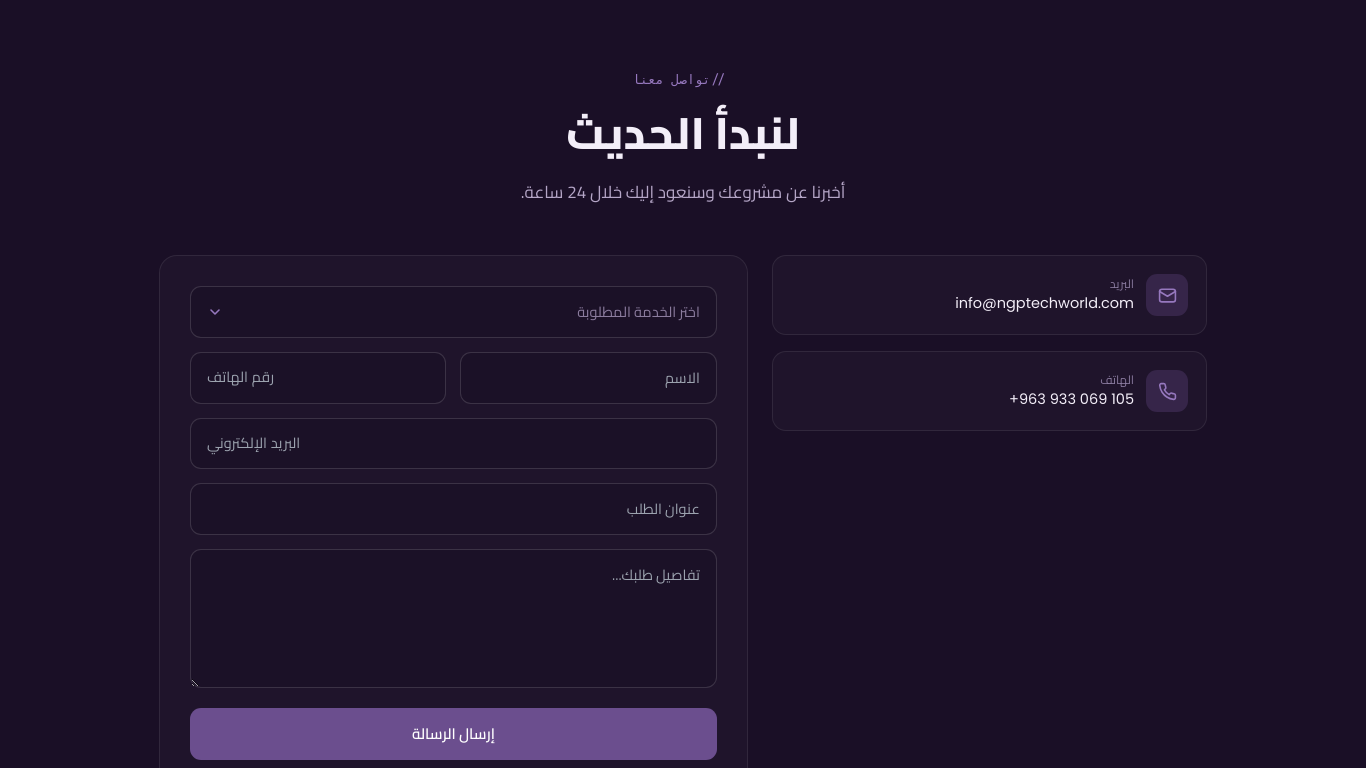
Scenario: sending the form › explains the rate limit (429)
Click the button "اختر الخدمة المطلوبة". click: (638,312)
box: 190,286 -> 717,338
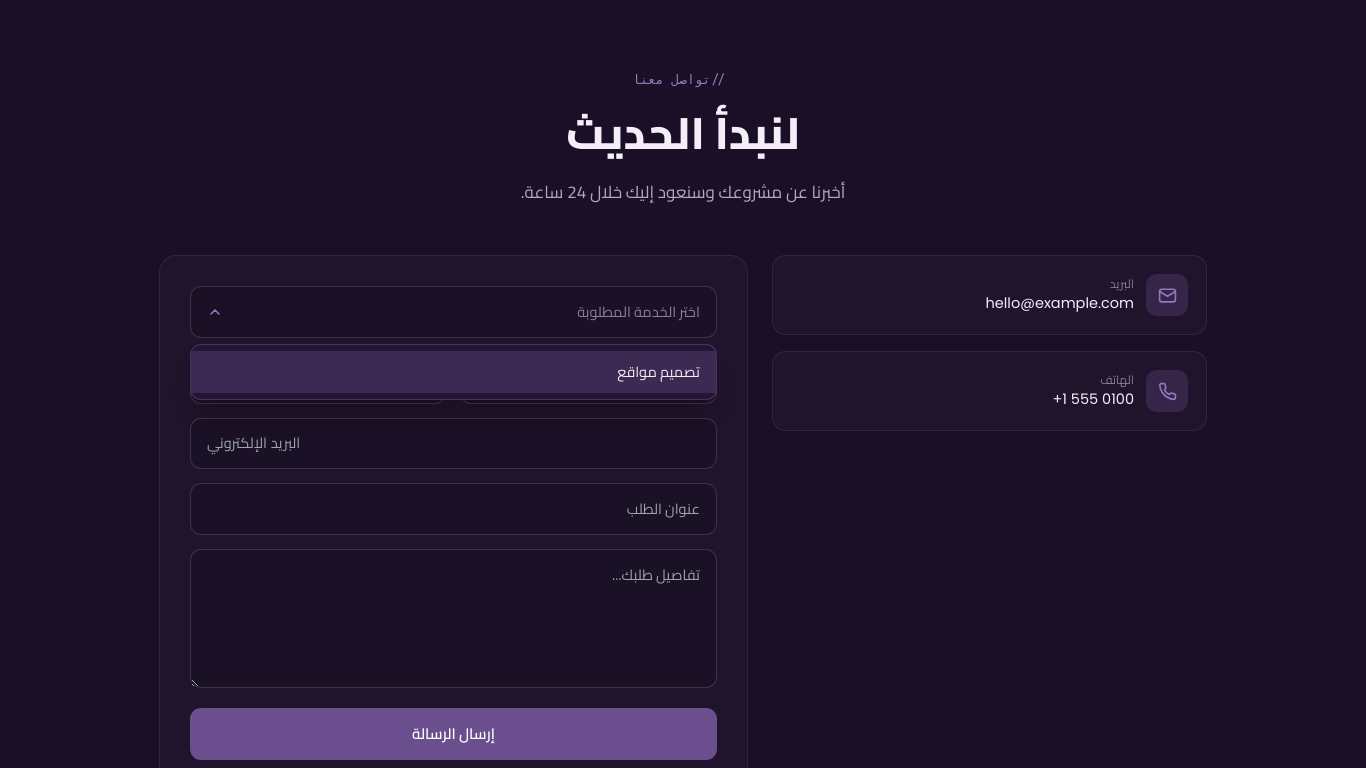
Click the option "تصميم مواقع". click: (659,371)
box: 191,351 -> 716,393
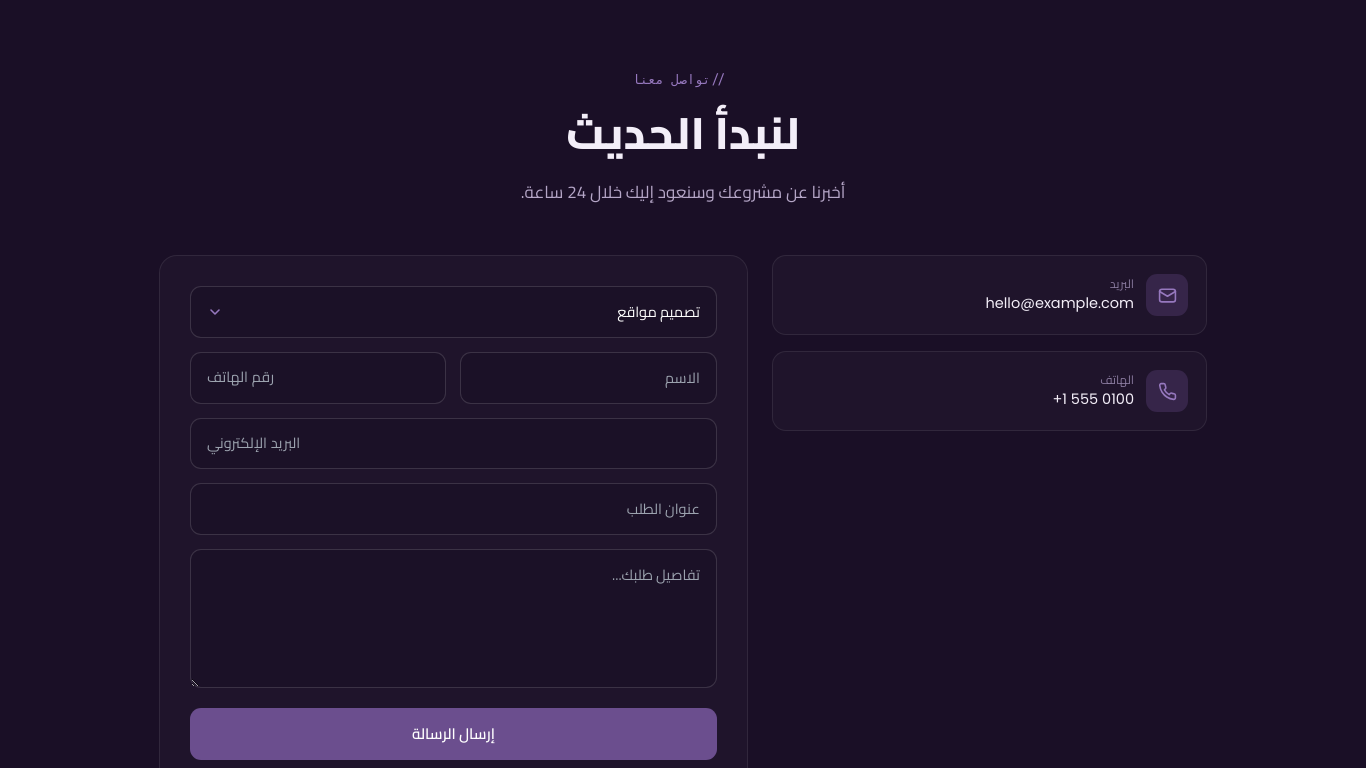
Type "Ali" into the field with placeholder "الاسم". click: (589,378)
box: 460,352 -> 717,404
Type "+963 900 000 000" into the field with placeholder "رقم الهاتف". click: (318,378)
box: 190,352 -> 446,404
Type "ali@example.com" into the field with placeholder "البريد الإلكتروني". click: (453,443)
box: 190,418 -> 717,469
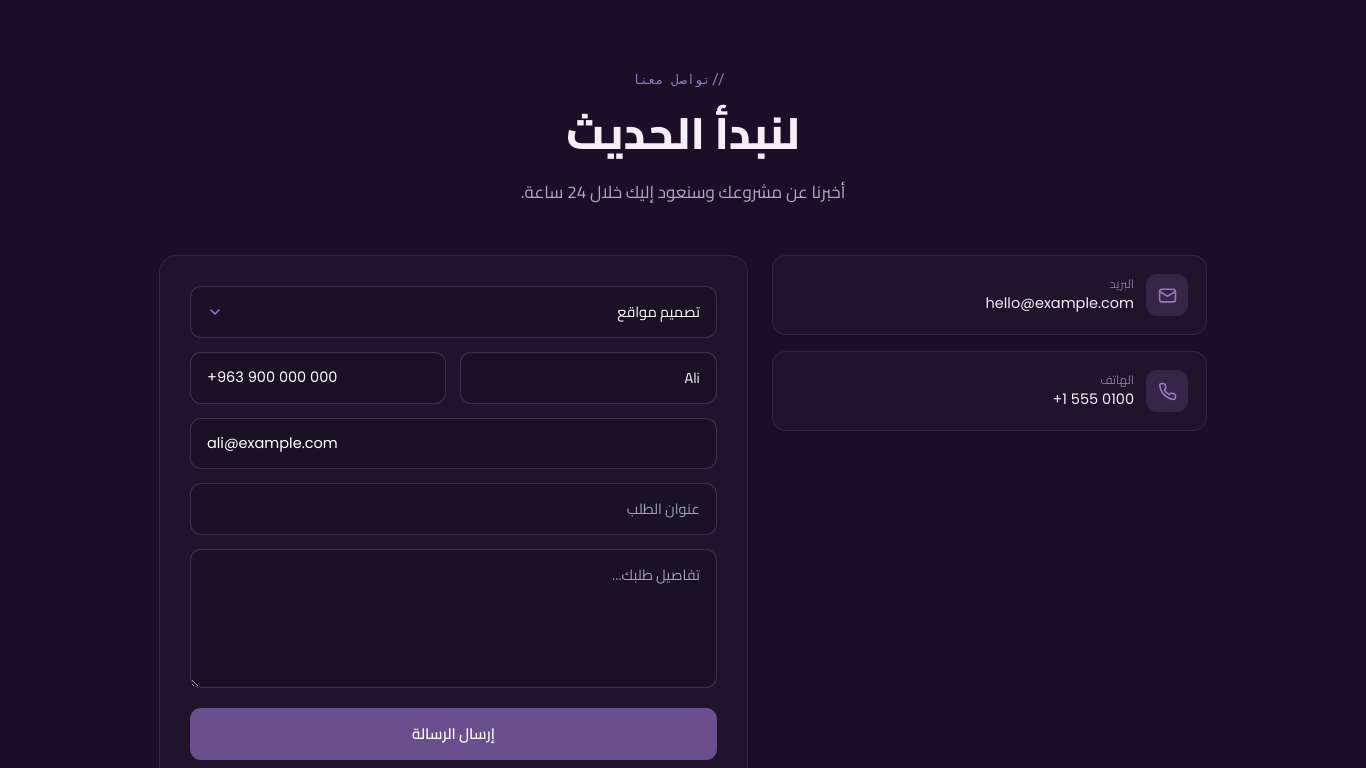
Type "App request" into the field with placeholder "عنوان الطلب". click: (453,509)
box: 190,483 -> 717,535
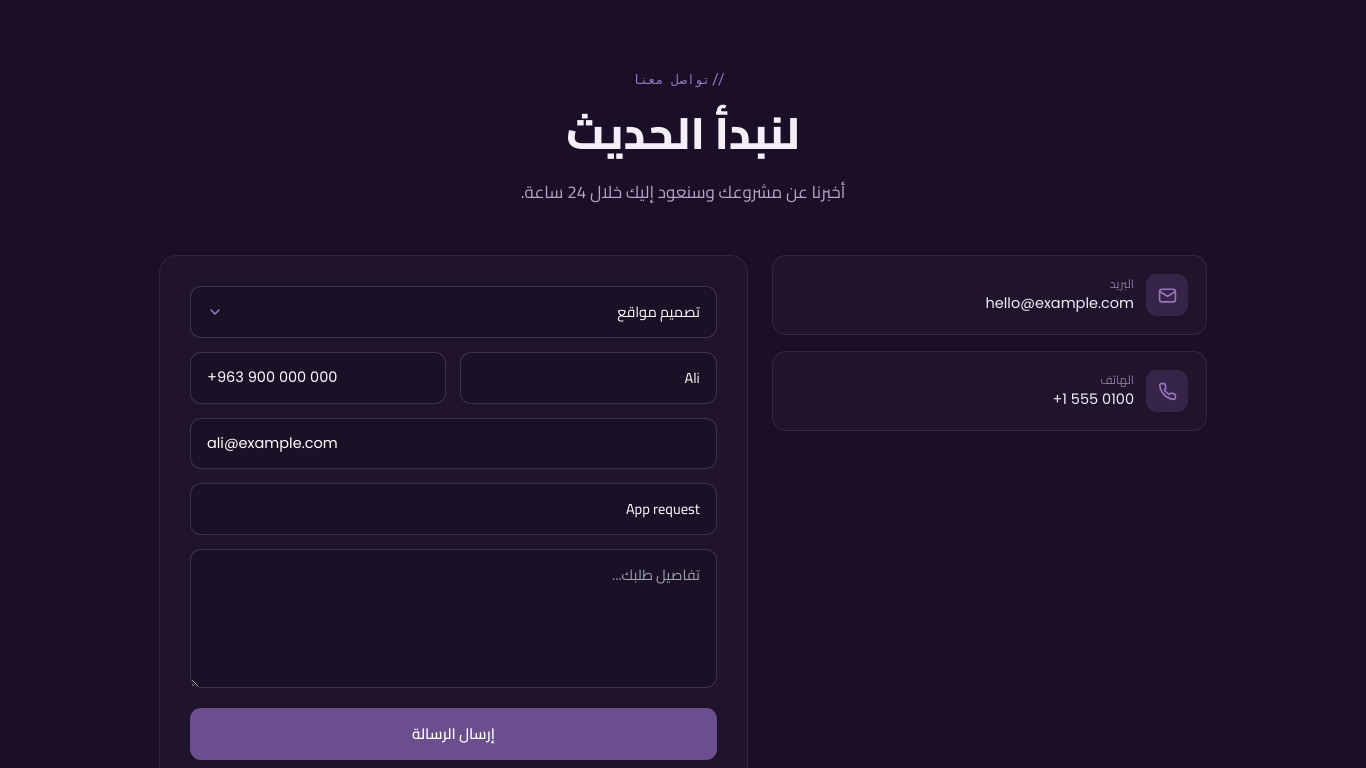
Type "Hello there, I need an app" into the text box with placeholder "تفاصيل طلبك...". click: (453,618)
box: 190,549 -> 717,688
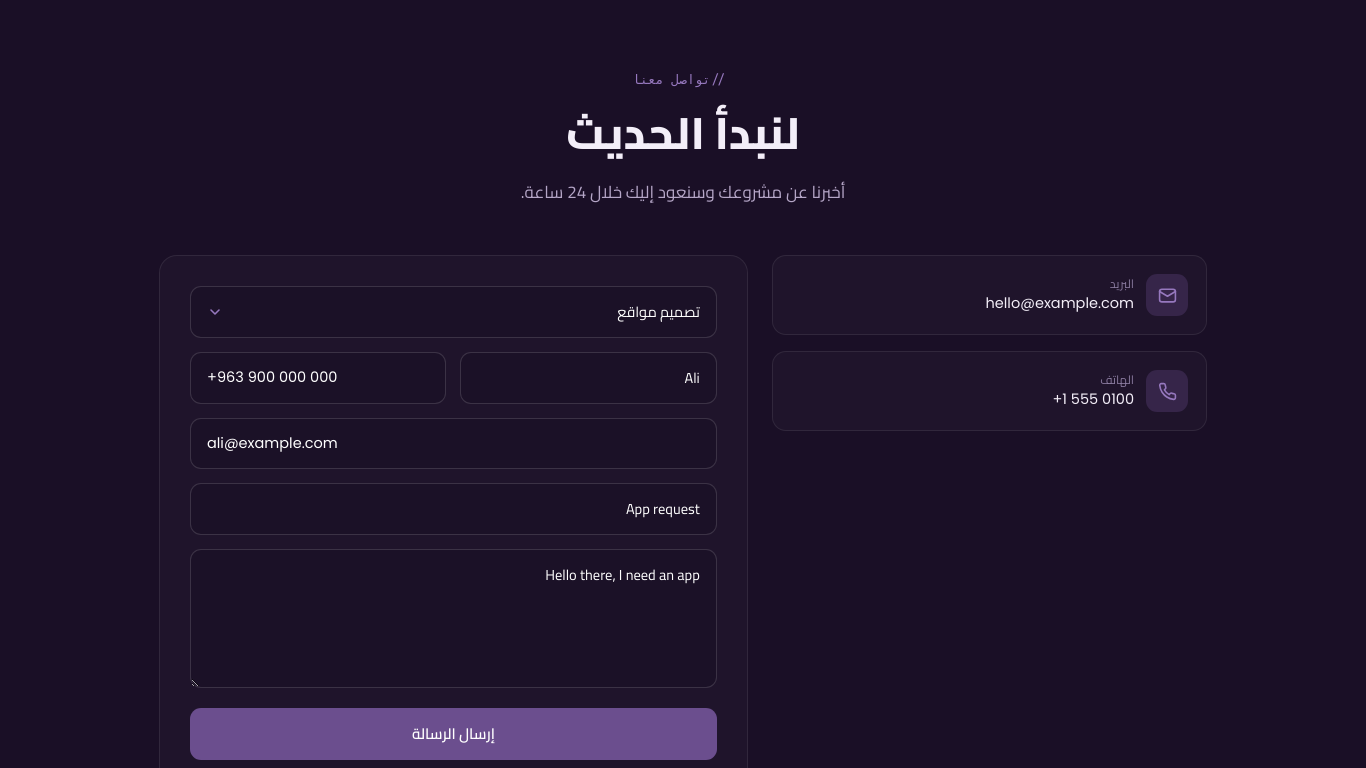
Click the button "إرسال الرسالة". click: (453,734)
box: 190,708 -> 717,760
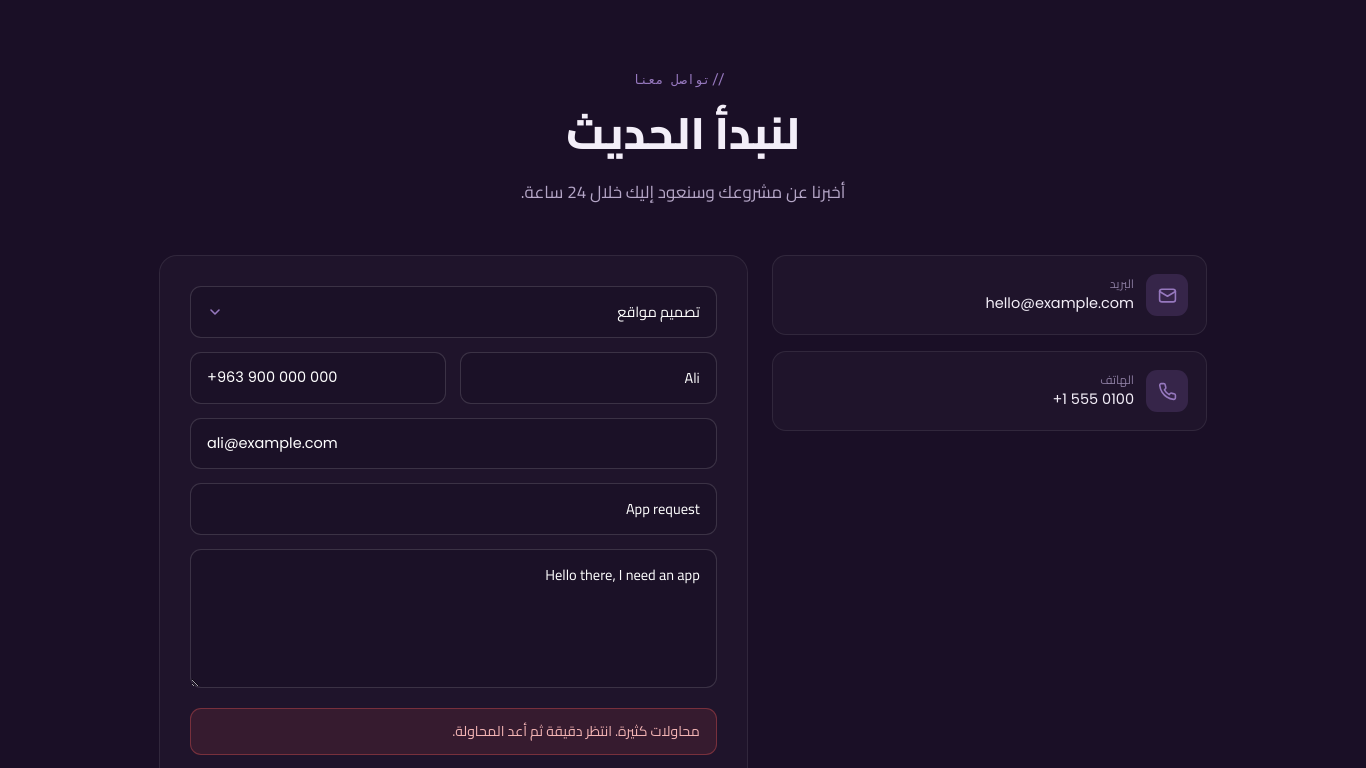
Result: the message reads "محاولات كثيرة. انتظر دقيقة ثم أعد المحاولة." at 452,718 -> 700,744
